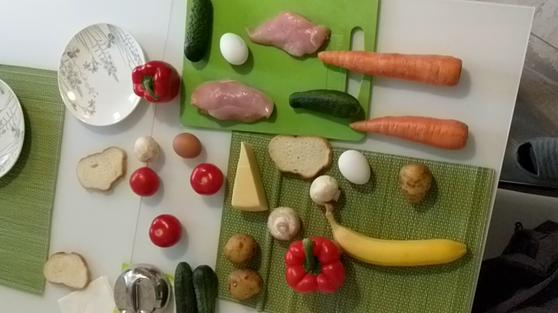banana: (325, 199, 470, 266)
carrot: (318, 51, 465, 90), (349, 113, 470, 151)
champignon: (265, 203, 304, 238), (134, 134, 163, 167), (311, 174, 339, 206)
cheese: (231, 138, 265, 210)
chicken_fillet: (254, 13, 335, 65), (193, 76, 275, 123)
cucumber: (288, 87, 363, 122), (182, 1, 215, 62), (196, 265, 220, 313), (174, 263, 195, 313)
egg: (340, 147, 374, 187), (217, 30, 249, 66), (172, 134, 204, 160)
pepper: (279, 237, 347, 294), (134, 62, 182, 99)
potato: (396, 162, 436, 203), (227, 266, 267, 305), (225, 235, 259, 266)
tomato: (125, 165, 161, 197), (192, 165, 225, 197), (150, 215, 182, 248)
white_bread: (270, 134, 336, 177), (75, 145, 129, 192), (39, 251, 89, 292)
